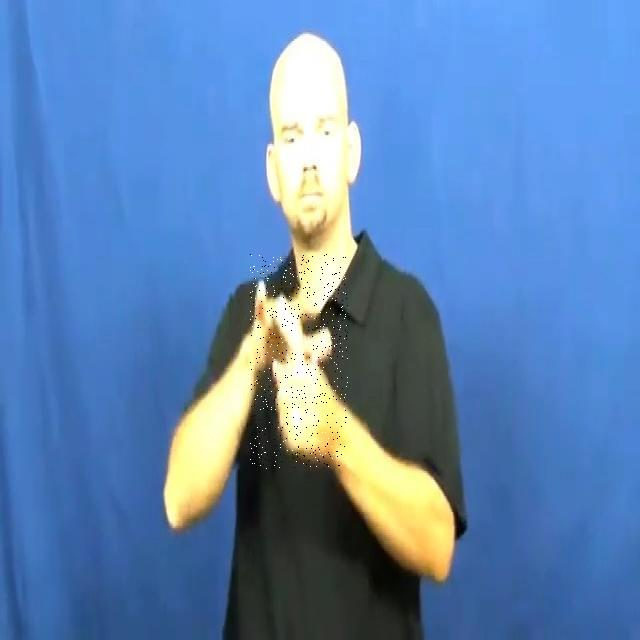soda: (250, 254, 348, 469)
